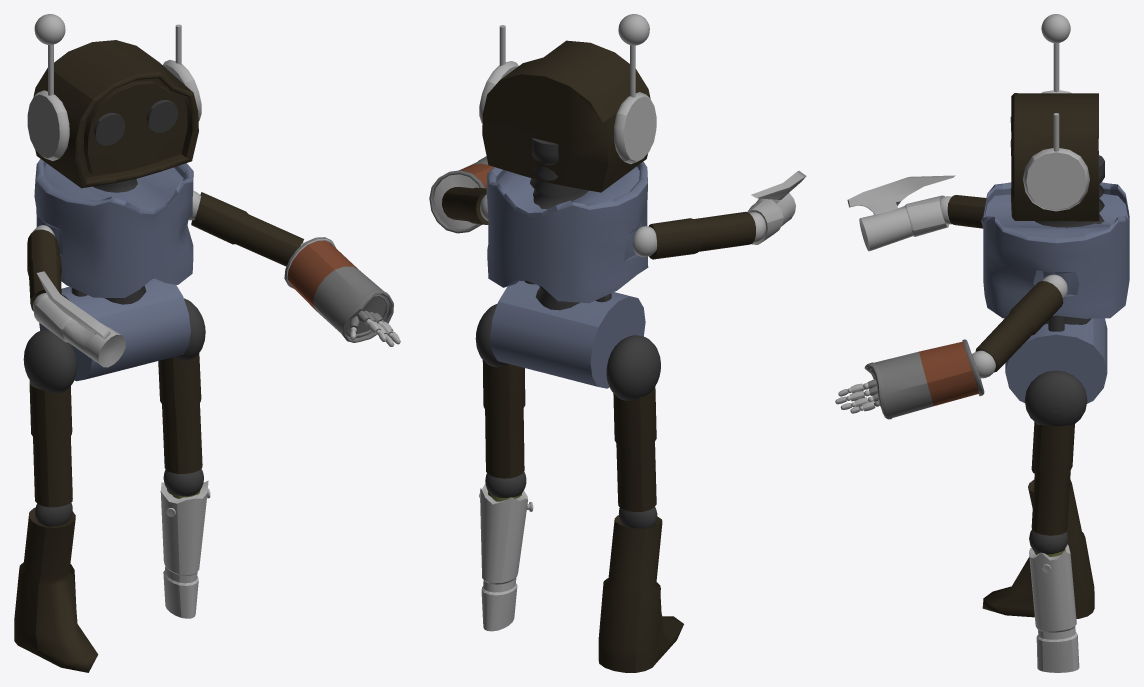
Rendered from r-brt-2.fbx.
3 renders of one model, left to right at view 1: azimuth 30°, elevation 25°; view 2: azimuth 150°, elevation 25°; view 3: azimuth 270°, elevation 25°, orthographic. The views are drawn at different scales.
Visible parts, largest first — view 1: LeftArm1_Fringer_39; view 2: LeftArm1_Fringer_39; view 3: LeftArm1_Fringer_39.
Boxes of the visible parts, bbox=[...] form: LeftArm1_Fringer_39: bbox=[14, 14, 400, 672]; LeftArm1_Fringer_39: bbox=[429, 14, 806, 672]; LeftArm1_Fringer_39: bbox=[835, 14, 1129, 672].
Size of the model in its own units: 54.11 by 99.8 by 44.86.
